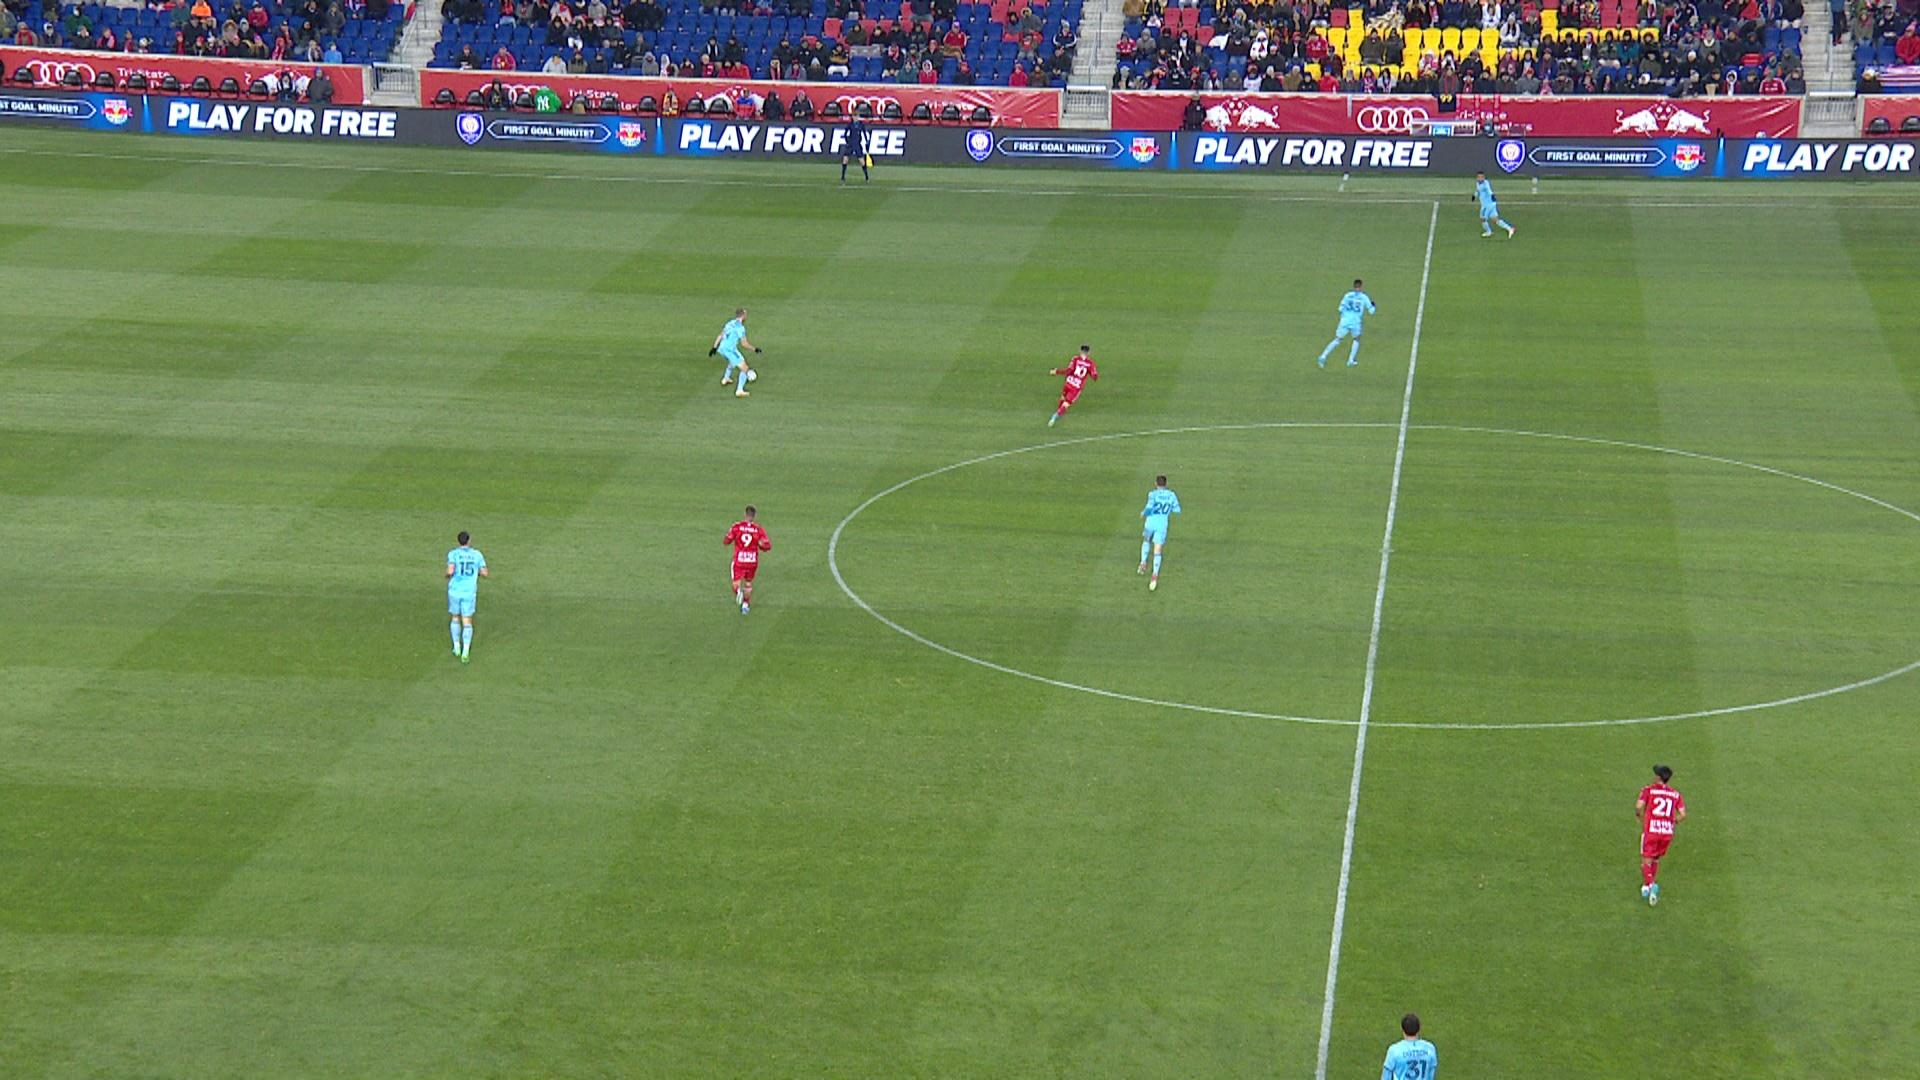football: (748, 368, 757, 382)
